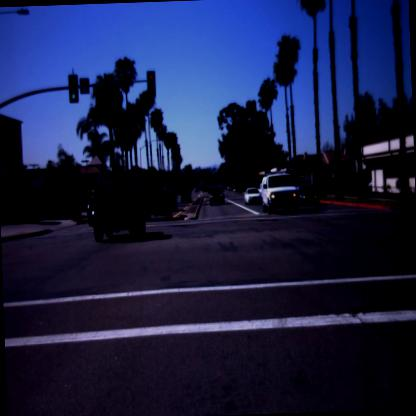trafficlight: (66, 67, 82, 110), (143, 64, 161, 102)
